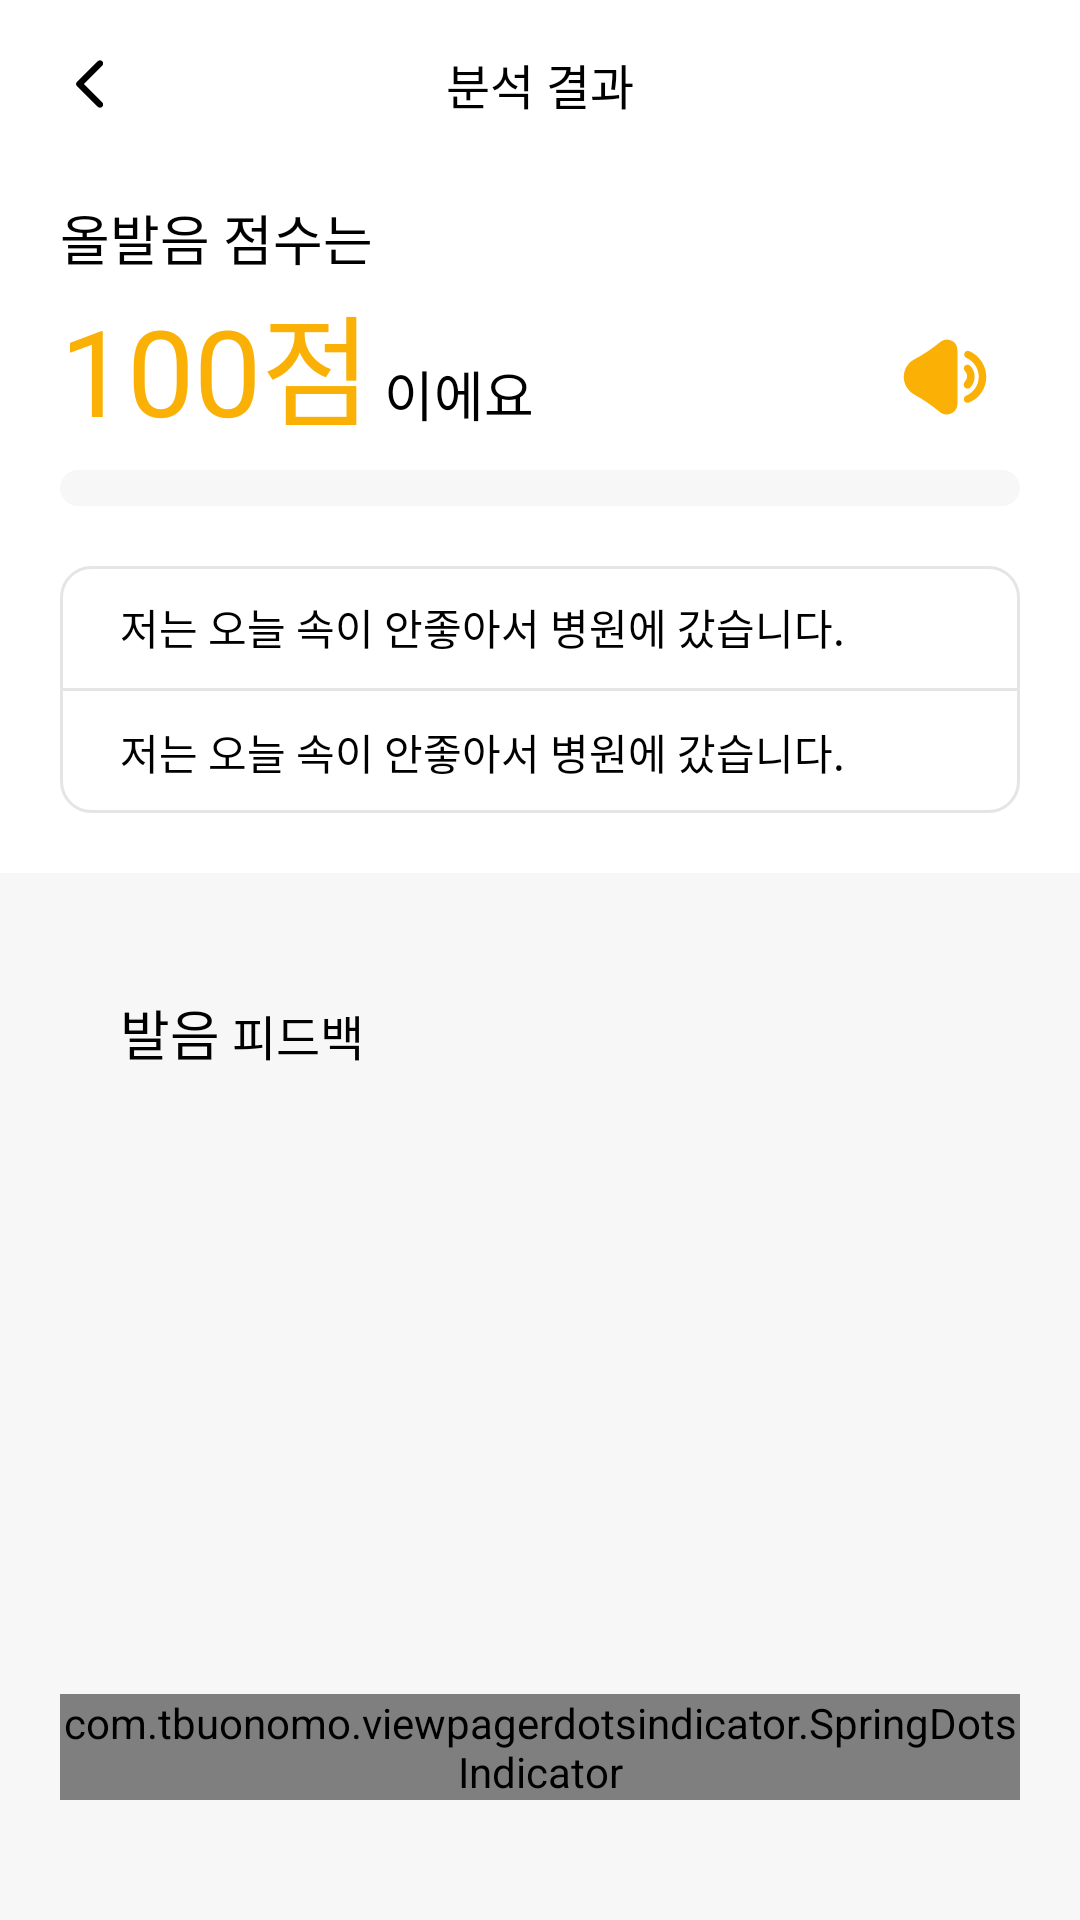

Named icons in this screenshot (1080px×1920px) and their bounding boxes, bbox=[x1, y1, x2, y2]:
arrow back: bbox=[76, 60, 103, 108]
volume: bbox=[903, 339, 987, 415]
